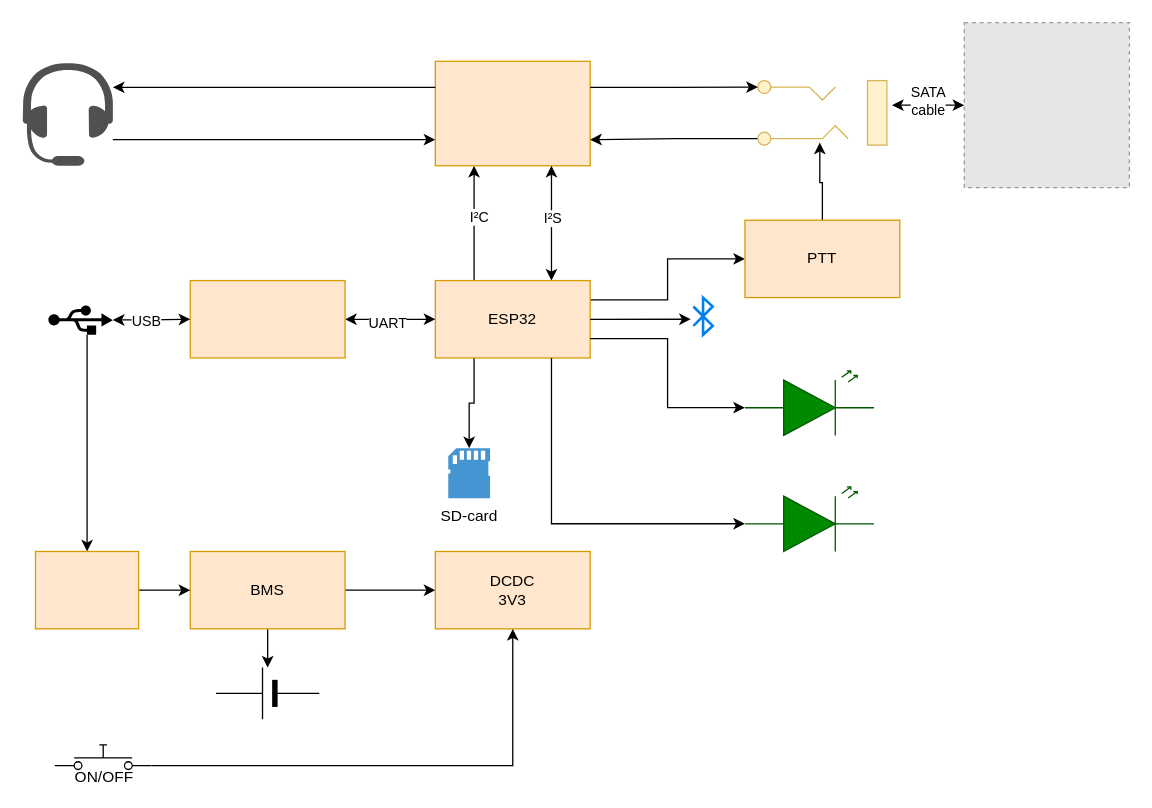
Some shapes in this 1152 by 808 pixel diagram are drawn without their labels. Grey dashed boxes stand in for pictures. The shapes that lost their labels are listed below. From the top down, each one's centre as x and y in pixels, then its label:
At (x=512, y=113): "Audio codec".
At (x=267, y=318): "CP2102 USB-UART".
At (x=702, y=315): "SPP".
At (x=86, y=589): "Charger".
